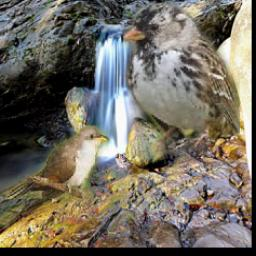Cuckoo: (5, 125, 109, 199)
Sparrow: (123, 3, 240, 157), (116, 153, 136, 172)
